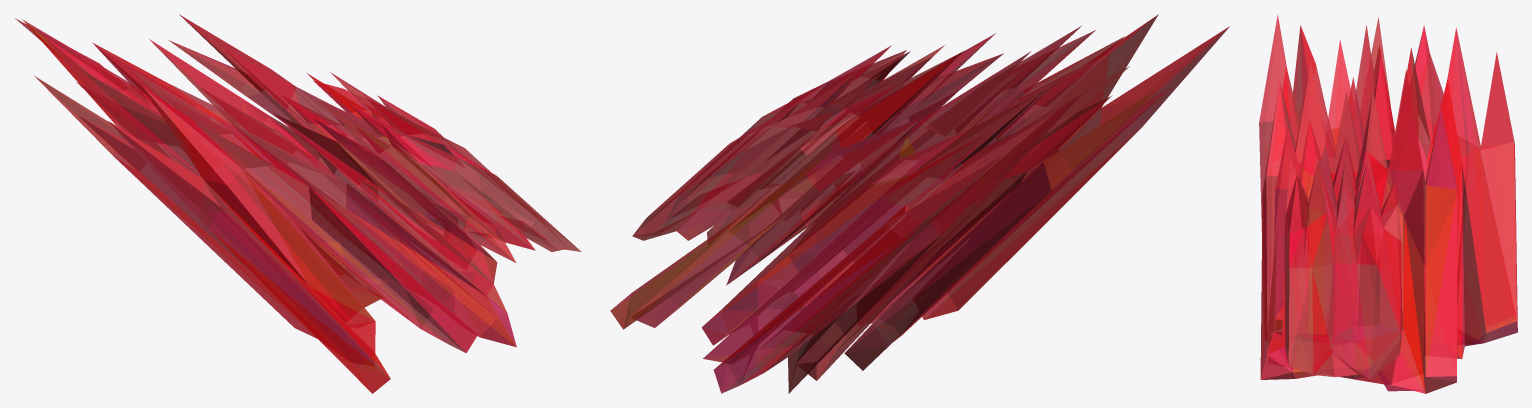
File: DragonSpawn_LOD.glb
3 views of the same model, side by side, from view 1: azimuth 30°, elevation 25°; view 2: azimuth 150°, elevation 25°; view 3: azimuth 270°, elevation 25° (orthographic). The views are drawn at different scales.
Visible parts, largest first — view 1: LOD; view 2: LOD; view 3: LOD.
Boxes of the visible parts, box(x1,y1,x2,y2) form: LOD: box(15, 14, 581, 393); LOD: box(610, 14, 1229, 393); LOD: box(1259, 14, 1517, 393).
Bounding box in the file's own units: 16.91 × 11.21 × 10.64.
1 material, 1 textured.
